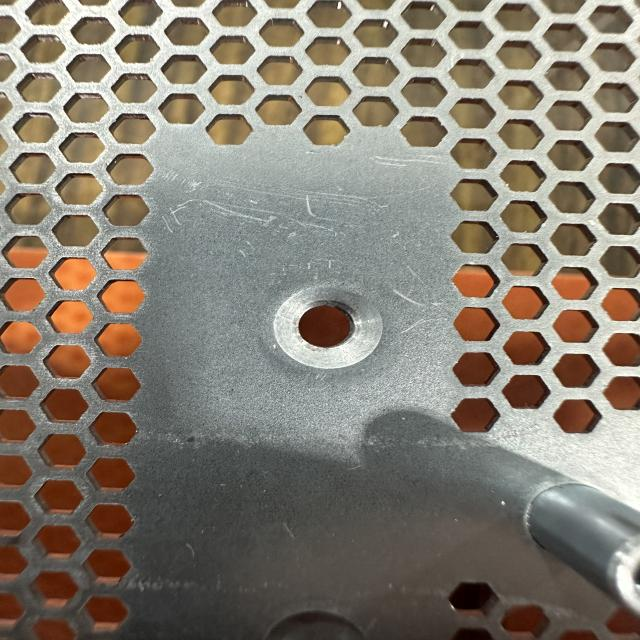Missing screw: (254, 274, 399, 381)
